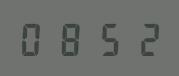eight: (53, 20, 87, 56)
five: (88, 20, 122, 56)
two: (123, 20, 157, 56)
zero: (18, 20, 52, 56)
